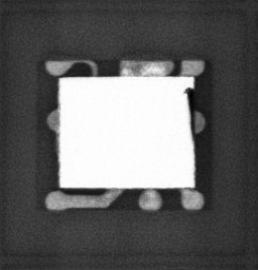DIE_BROKEN: (184, 85, 197, 145)
